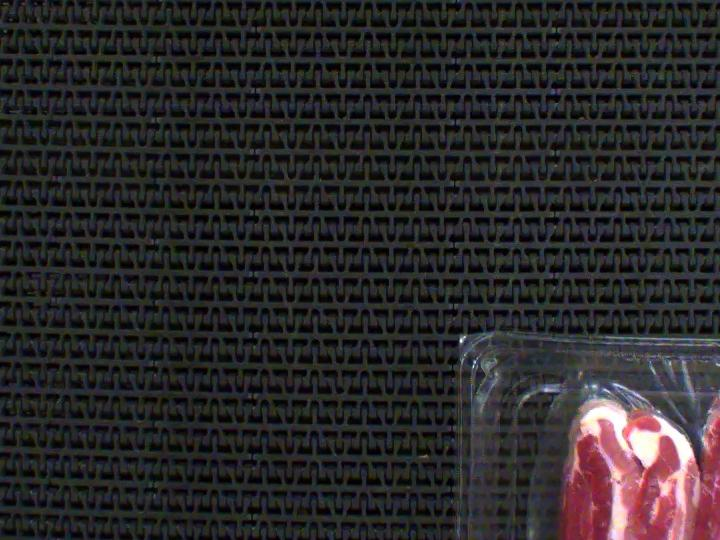unsealed: (517, 352, 720, 540)
